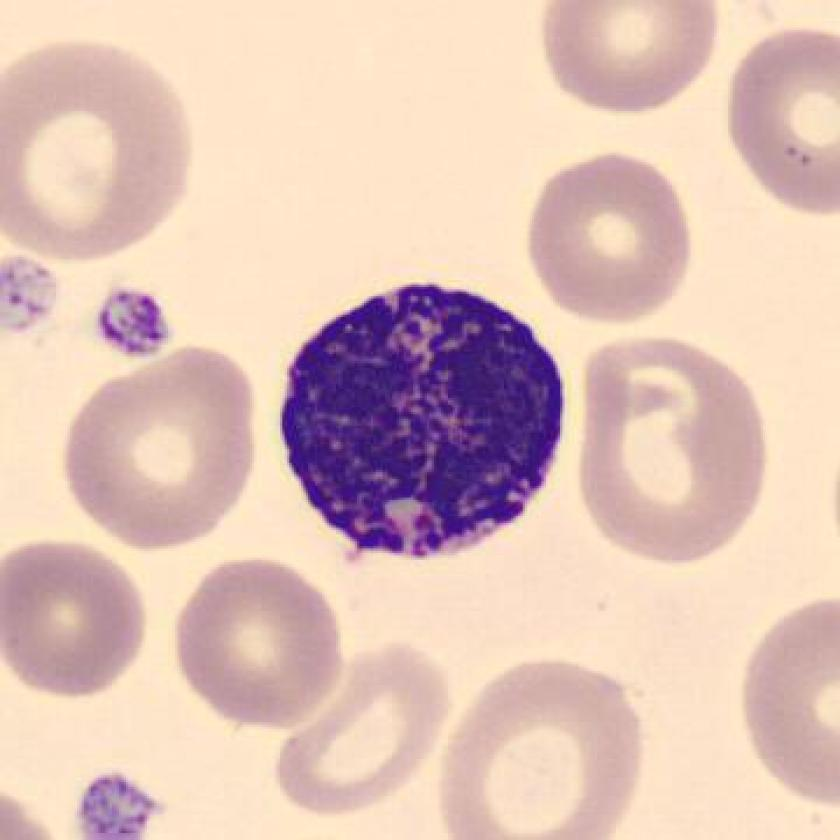basophil: (269, 258, 575, 577)
